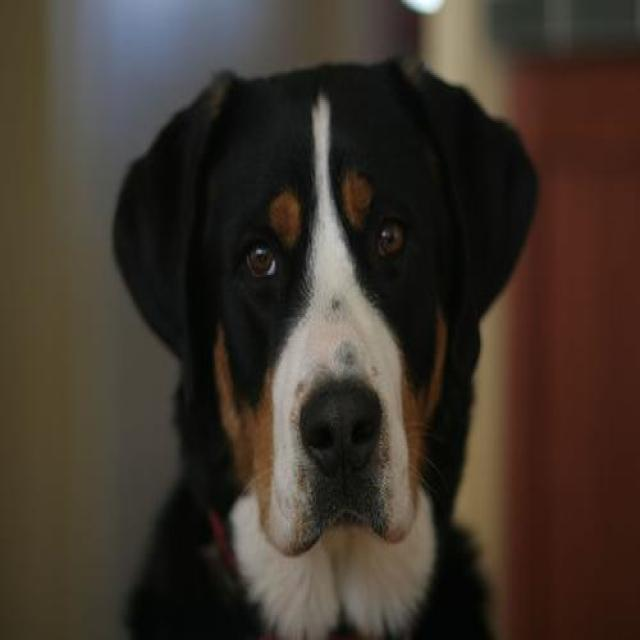dog: (99, 39, 546, 640)
